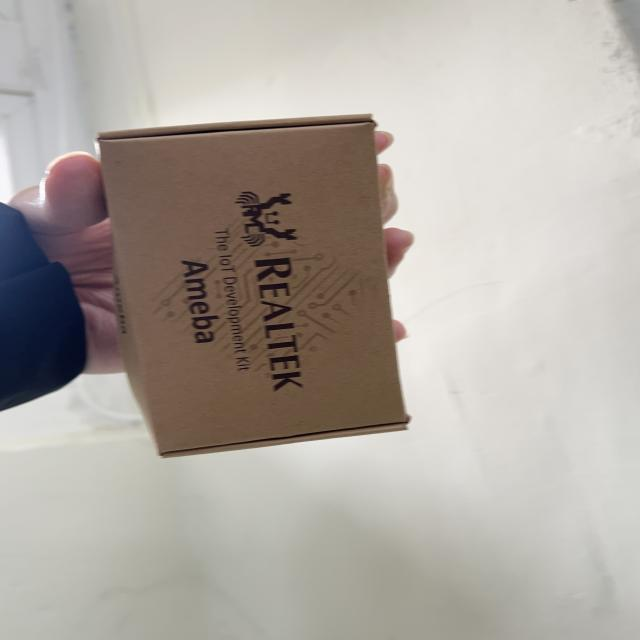box: (79, 112, 430, 474)
